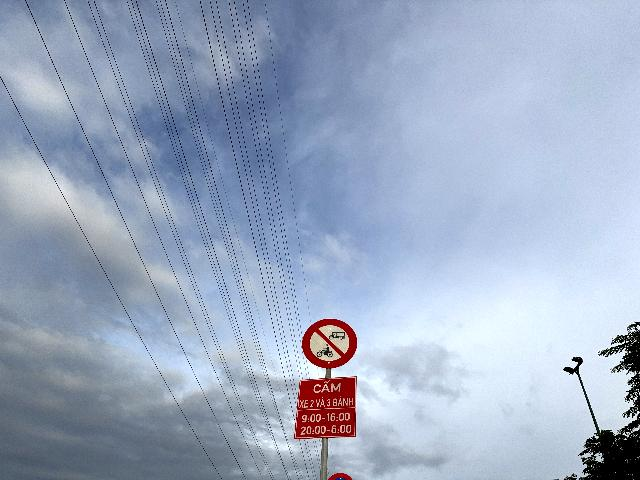cam-xe-2-banh-3-banh: (301, 318, 357, 368)
